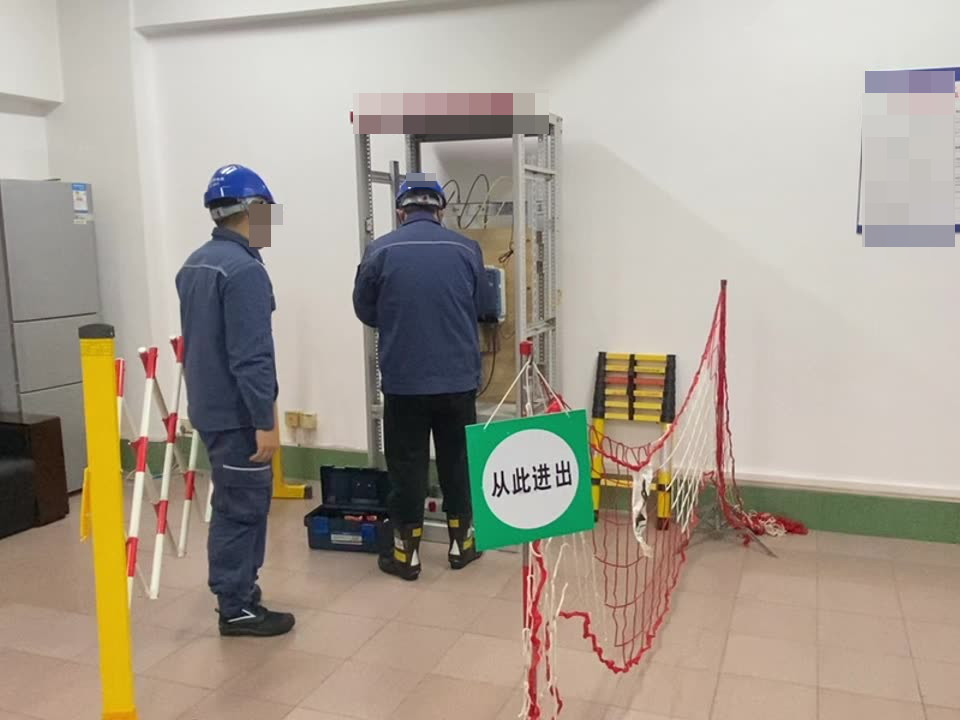downcloth: (382, 401, 474, 537)
downsuit: (202, 431, 278, 611)
halt: (201, 164, 282, 241), (394, 174, 450, 220)
hand: (251, 426, 279, 463)
inear: (240, 197, 266, 239)
intosign: (463, 408, 598, 553)
person: (351, 171, 502, 575), (172, 162, 295, 635)
shoe: (377, 525, 424, 579), (442, 517, 479, 564)
upsuit: (354, 220, 498, 395), (178, 241, 279, 426)
